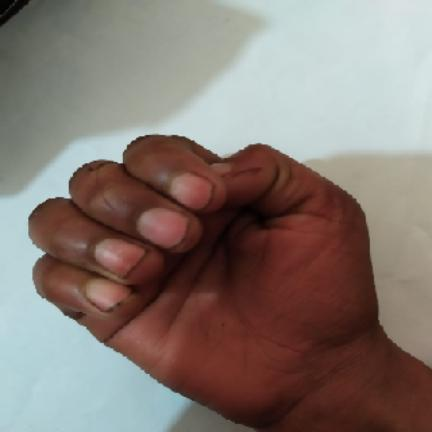Nail: (137, 208, 189, 249), (94, 239, 145, 276), (170, 173, 213, 210), (86, 278, 131, 311), (210, 163, 231, 176)
